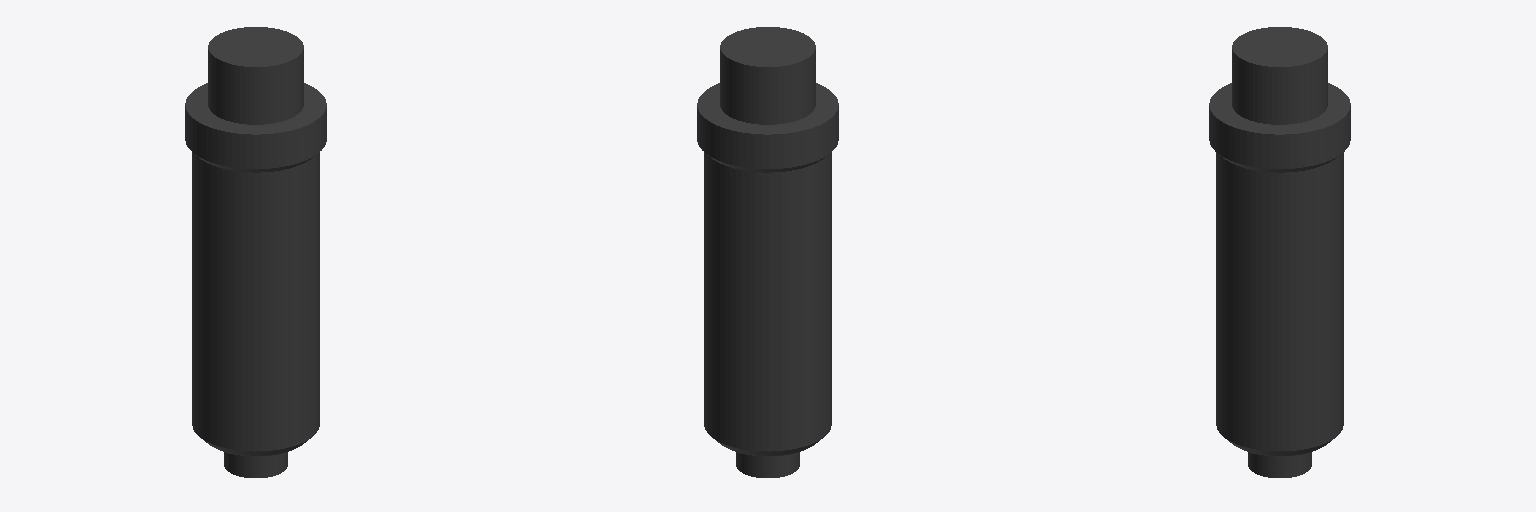
Rendered from pinger.obj.
3 views of the same model, side by side, from view 1: azimuth 30°, elevation 25°; view 2: azimuth 150°, elevation 25°; view 3: azimuth 270°, elevation 25° (orthographic).
Parts seen in each view (by area): view 1: mesh5, mesh1, mesh3, mesh0, mesh2, mesh9; view 2: mesh5, mesh1, mesh3, mesh0, mesh2, mesh9; view 3: mesh5, mesh1, mesh3, mesh0, mesh2, mesh9.
Part boxes in pixels (left/top/right/bottom): mesh5: left=192, top=152, right=319, bottom=451; mesh1: left=208, top=49, right=303, bottom=124; mesh3: left=185, top=106, right=326, bottom=168; mesh0: left=208, top=27, right=303, bottom=66; mesh2: left=185, top=83, right=326, bottom=134; mesh9: left=224, top=452, right=287, bottom=477; mesh5: left=704, top=152, right=831, bottom=451; mesh1: left=720, top=49, right=815, bottom=124; mesh3: left=697, top=106, right=838, bottom=168; mesh0: left=720, top=27, right=815, bottom=66; mesh2: left=697, top=83, right=838, bottom=134; mesh9: left=736, top=452, right=799, bottom=477; mesh5: left=1216, top=152, right=1343, bottom=450; mesh1: left=1232, top=49, right=1327, bottom=124; mesh3: left=1209, top=106, right=1350, bottom=168; mesh0: left=1232, top=27, right=1327, bottom=66; mesh2: left=1209, top=83, right=1350, bottom=134; mesh9: left=1248, top=452, right=1311, bottom=477.
Size of the model in its own units: 0.0563 by 0.184 by 0.0564.